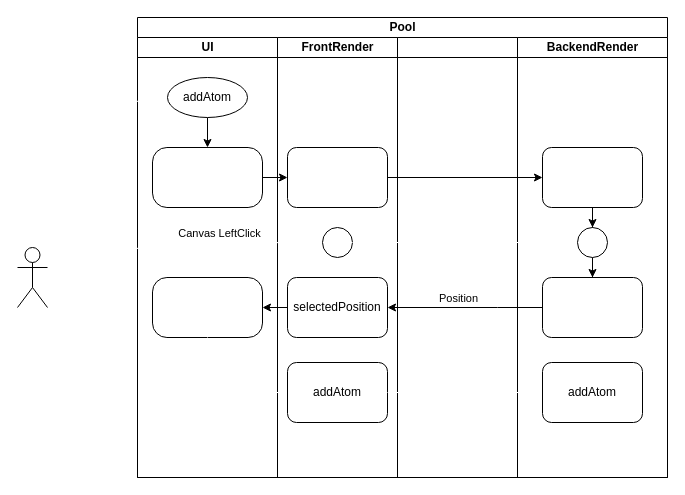
Image size: 685x495. Some labels were removed from this diagram. Each missing label, with the centre of its shape:
change state: getPosition: pixel 337 177
MessagePassing: pixel 457 257
ShowAddAtomView: pixel 207 307
User: pixel 32 277
